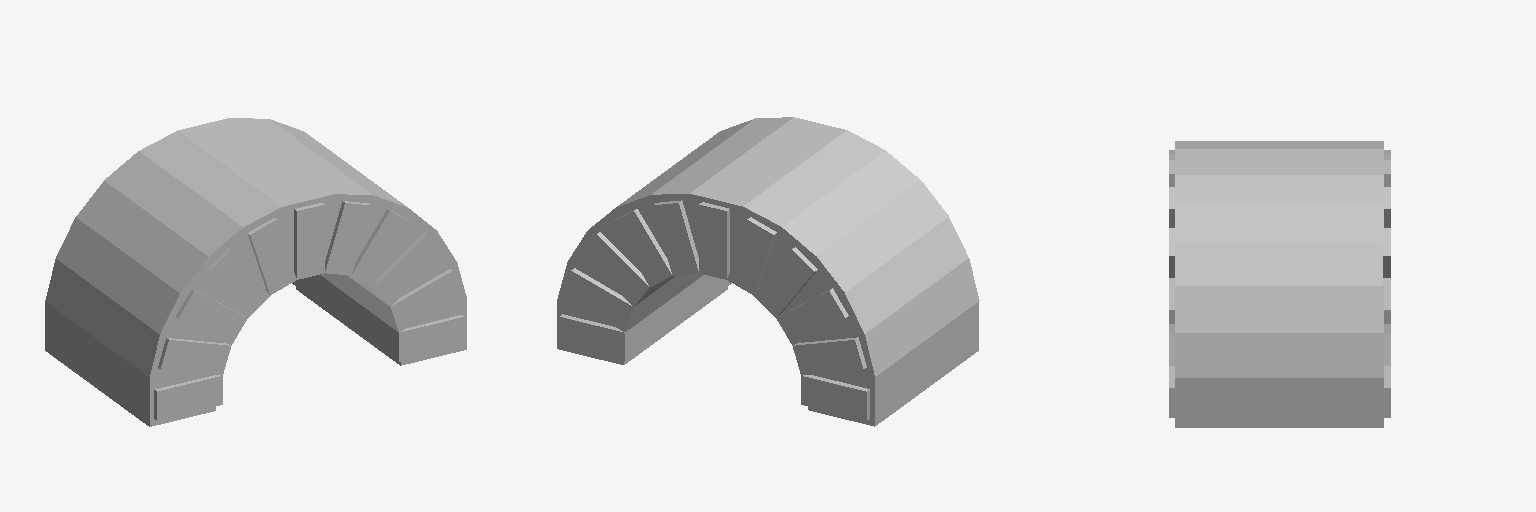
The model's file is lime_mortar_orange_clay_brick_round_arch_1.obj.
The picture shows the model from 3 angles: view 1: azimuth 30°, elevation 25°; view 2: azimuth 150°, elevation 25°; view 3: azimuth 270°, elevation 25°; orthographic projection.
Parts seen in each view (by area): view 1: cube.037, cube.035, cube.039, cube.033, cube.042, cube.041, mortar.006, brick.032, cube.040, brick.034, brick.036, brick.042 (+11 smaller); view 2: cube.037, cube.035, cube.039, cube.042, mortar.006, cube.033, cube.041, brick.032, brick.034, cube.040, brick.036, brick.040 (+11 smaller); view 3: mortar.005, cube.034, cube.032, cube.036, cube.038, cube.040, cube.042, cube.041, brick.038, brick.032, brick.036, brick.034 (+1 smaller).
Part boxes in pixels (bbox=[...]): cube.037: bbox=[76, 181, 241, 313]; cube.035: bbox=[56, 217, 223, 342]; cube.039: bbox=[104, 151, 265, 288]; cube.033: bbox=[45, 259, 222, 379]; cube.042: bbox=[178, 118, 334, 248]; cube.041: bbox=[140, 131, 293, 287]; mortar.006: bbox=[45, 302, 215, 426]; brick.032: bbox=[292, 275, 464, 361]; cube.040: bbox=[232, 118, 373, 260]; brick.034: bbox=[320, 269, 460, 331]; brick.036: bbox=[347, 232, 442, 306]; brick.042: bbox=[294, 203, 324, 279]; cube.037: bbox=[783, 180, 948, 312]; cube.035: bbox=[801, 217, 968, 342]; cube.039: bbox=[759, 151, 919, 287]; cube.042: bbox=[690, 117, 846, 269]; mortar.006: bbox=[808, 302, 978, 426]; cube.033: bbox=[851, 258, 979, 376]; cube.041: bbox=[743, 130, 885, 232]; brick.032: bbox=[559, 275, 731, 361]; brick.034: bbox=[563, 268, 703, 331]; cube.040: bbox=[651, 117, 792, 224]; brick.036: bbox=[581, 232, 676, 306]; brick.040: bbox=[652, 200, 698, 275]; mortar.005: bbox=[1175, 378, 1383, 427]; cube.034: bbox=[1175, 286, 1383, 332]; cube.032: bbox=[1175, 333, 1383, 377]; cube.036: bbox=[1175, 243, 1382, 285]; cube.038: bbox=[1175, 205, 1383, 242]; cube.040: bbox=[1175, 175, 1383, 204]; cube.042: bbox=[1175, 149, 1383, 174]; cube.041: bbox=[1175, 141, 1383, 148]; brick.038: bbox=[1169, 228, 1390, 277]; brick.032: bbox=[1169, 366, 1390, 417]; brick.036: bbox=[1169, 278, 1390, 323]; brick.034: bbox=[1169, 324, 1390, 365].
Size of the model in its own units: 1.78 by 1.01 by 1.07.